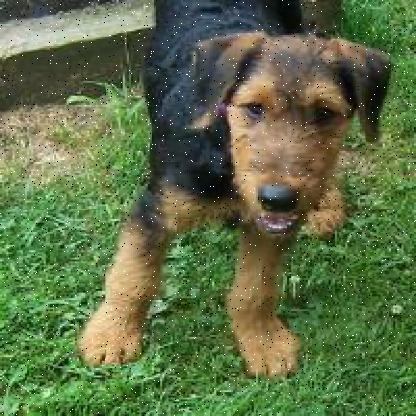dog: (107, 0, 392, 406)
